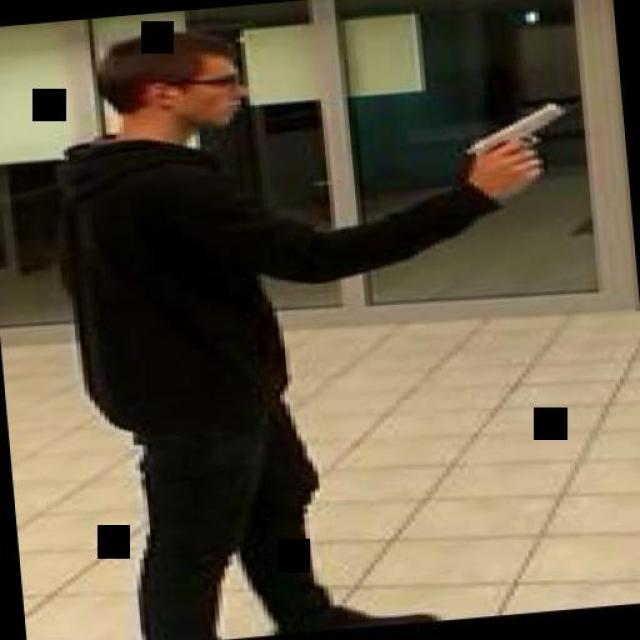gun: (455, 98, 566, 182)
